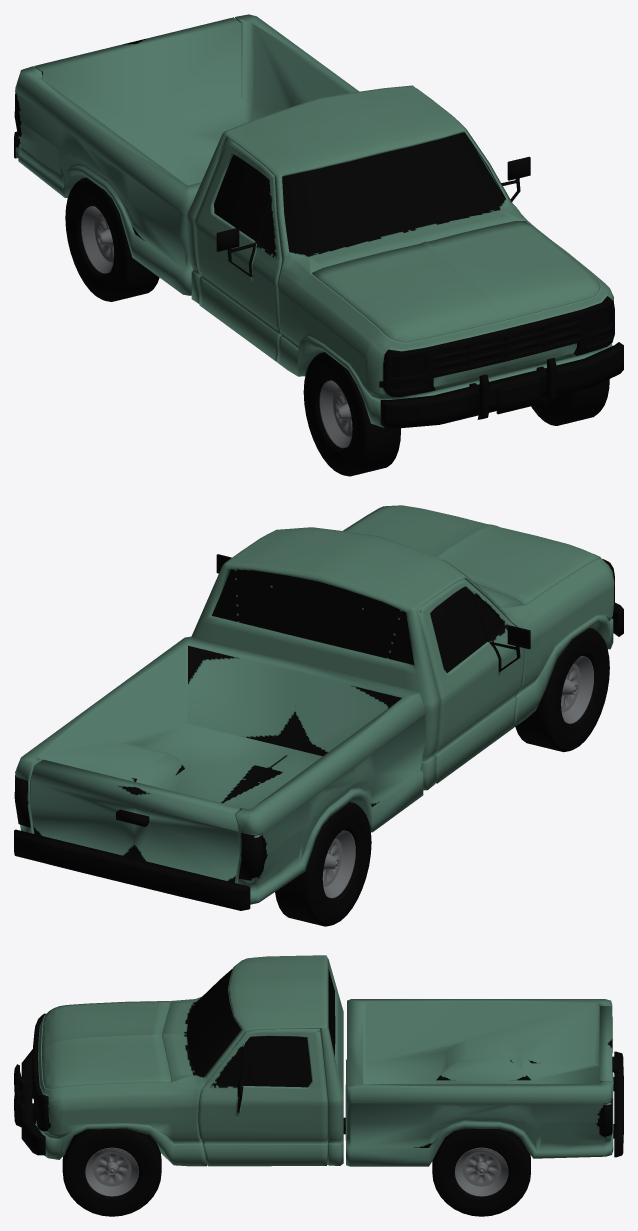
File: truck.fbx
3 renders of one model, top to bottom at view 1: azimuth 30°, elevation 25°; view 2: azimuth 150°, elevation 25°; view 3: azimuth 270°, elevation 25°, orthographic. The views are drawn at different scales.
Visible parts, largest first — view 1: Truck; view 2: Truck; view 3: Truck.
Boxes of the visible parts, <box> form: Truck: <box>14,14,623,476</box>; Truck: <box>14,505,623,926</box>; Truck: <box>14,955,623,1216</box>.
Bounding box in the file's own units: 3.05 × 2.28 × 6.65.
